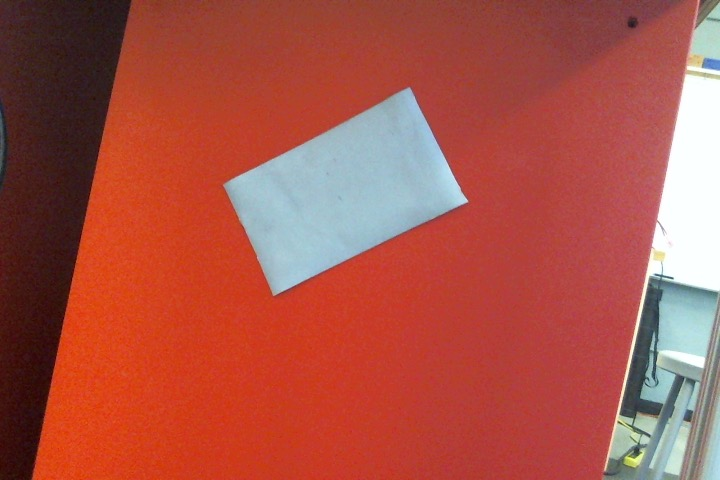Tape: (221, 87, 469, 297)
